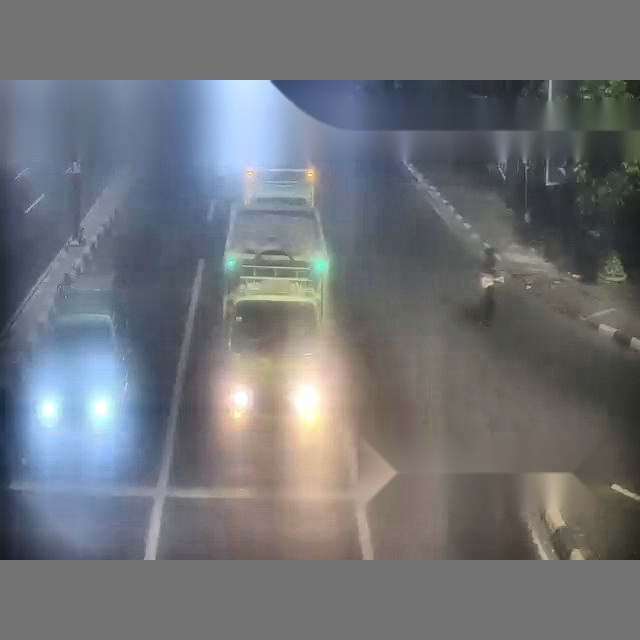Mobil: (223, 193, 328, 312)
